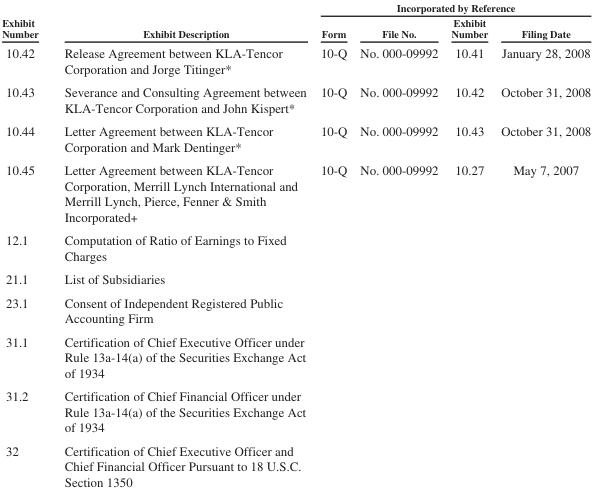table: (1, 1, 590, 488)
table column: (50, 1, 312, 488), (493, 1, 590, 488), (352, 1, 444, 488), (1, 1, 50, 488), (444, 1, 493, 488), (312, 1, 352, 488)
table column header: (1, 1, 590, 42)
table row: (1, 158, 590, 228), (1, 329, 590, 384), (1, 384, 590, 438), (1, 438, 590, 488), (1, 80, 590, 119), (1, 119, 590, 158), (1, 228, 590, 267), (1, 290, 590, 329), (1, 42, 590, 80), (1, 14, 590, 42), (1, 267, 590, 290), (1, 1, 590, 14)
table spanning cell: (50, 1, 312, 42), (312, 1, 590, 14), (1, 1, 50, 42)
